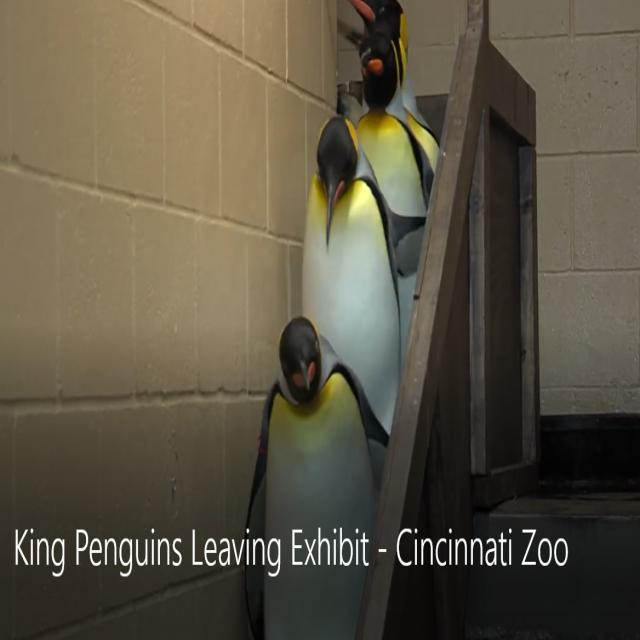Penguin: (245, 310, 392, 633), (301, 122, 408, 456), (340, 17, 436, 262)
